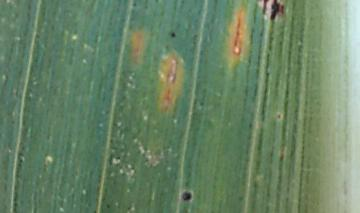tarspot: (270, 1, 284, 21), (181, 191, 192, 202), (262, 1, 267, 16), (170, 30, 177, 38), (276, 113, 282, 121)
